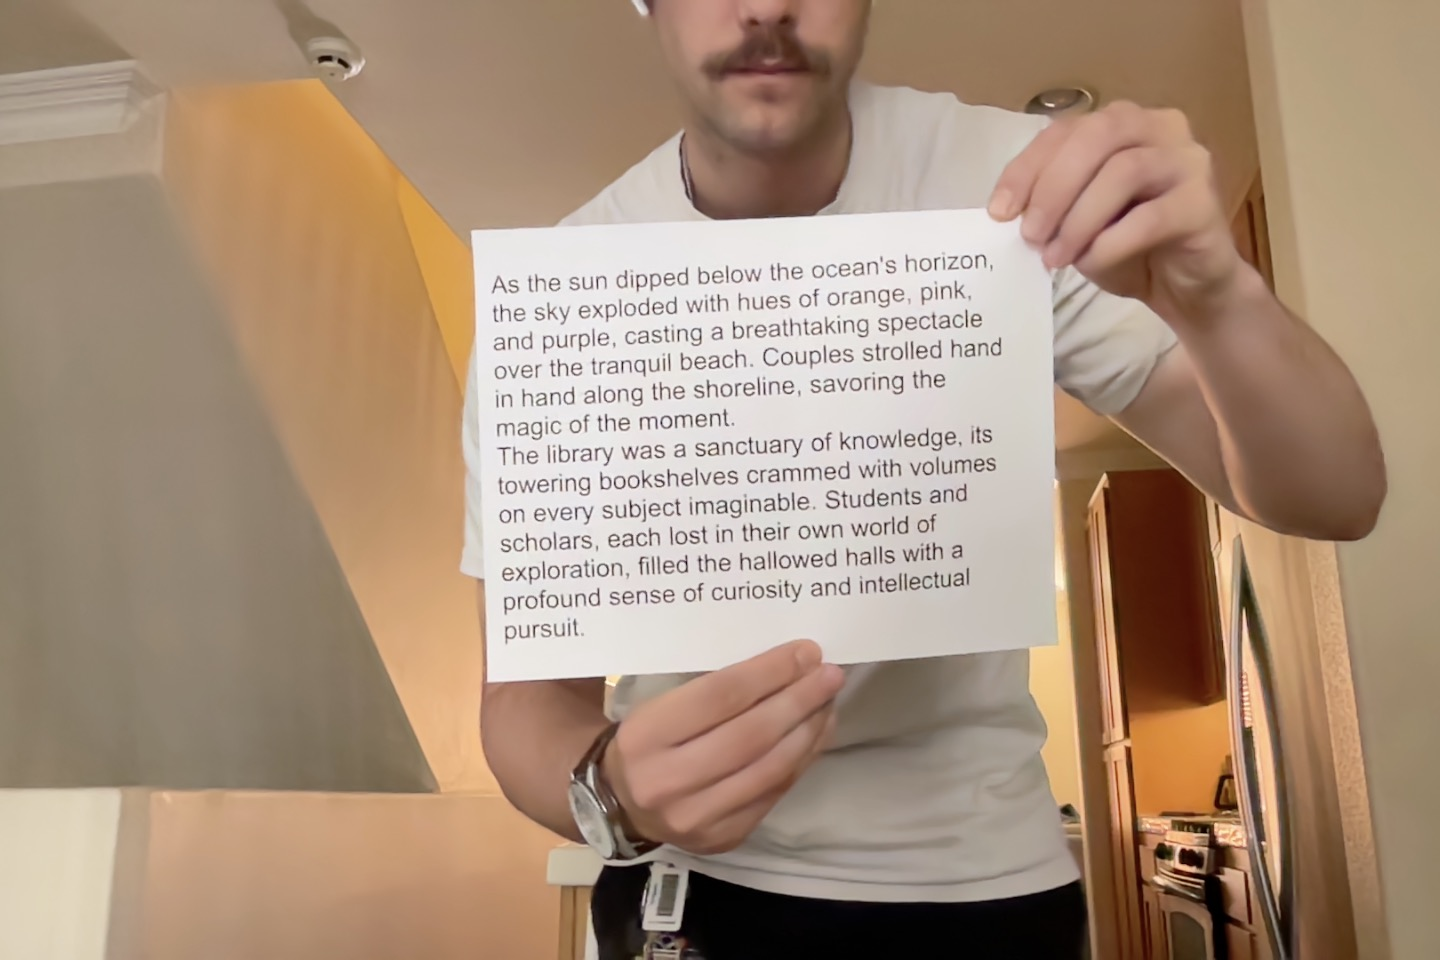paragraph: (487, 238, 1003, 646)
